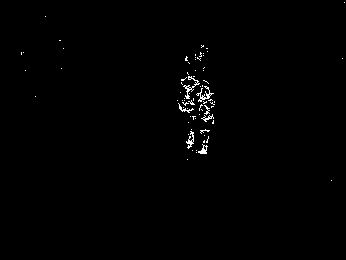person: (195, 79, 217, 156), (180, 74, 197, 149)
